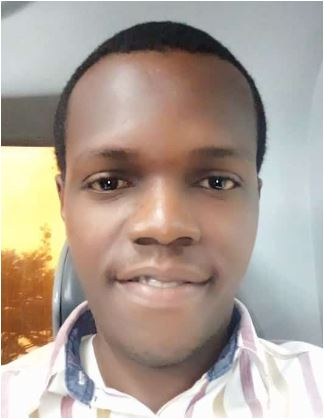without_facemask: (80, 216, 252, 364)
